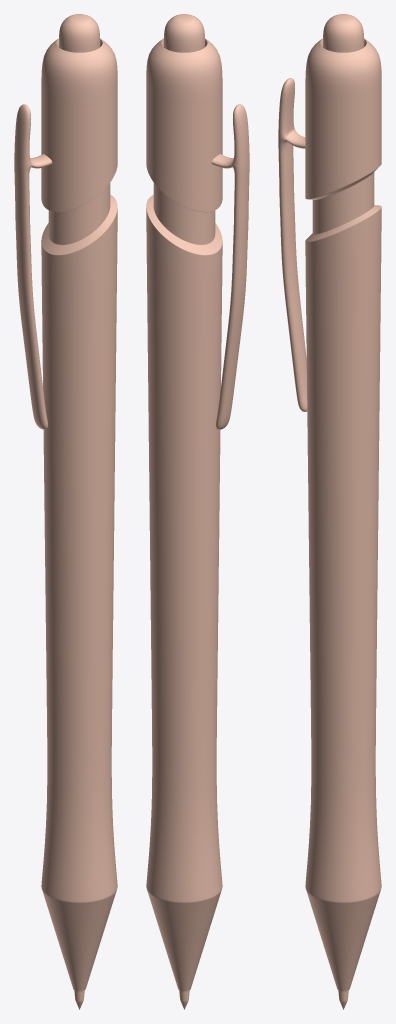
Rendered from rosegold.glb.
3 views of the same model, side by side, from view 1: azimuth 30°, elevation 25°; view 2: azimuth 150°, elevation 25°; view 3: azimuth 330°, elevation 25° (orthographic).
Parts seen in each view (by area): view 1: pen; view 2: pen; view 3: pen.
Boxes of the visible parts, left/top/right/bottom form: pen: left=14, top=14, right=117, bottom=1009; pen: left=146, top=14, right=249, bottom=1009; pen: left=278, top=14, right=381, bottom=1009.
Size of the model in its own units: 1.13 by 11.24 by 0.7824.
